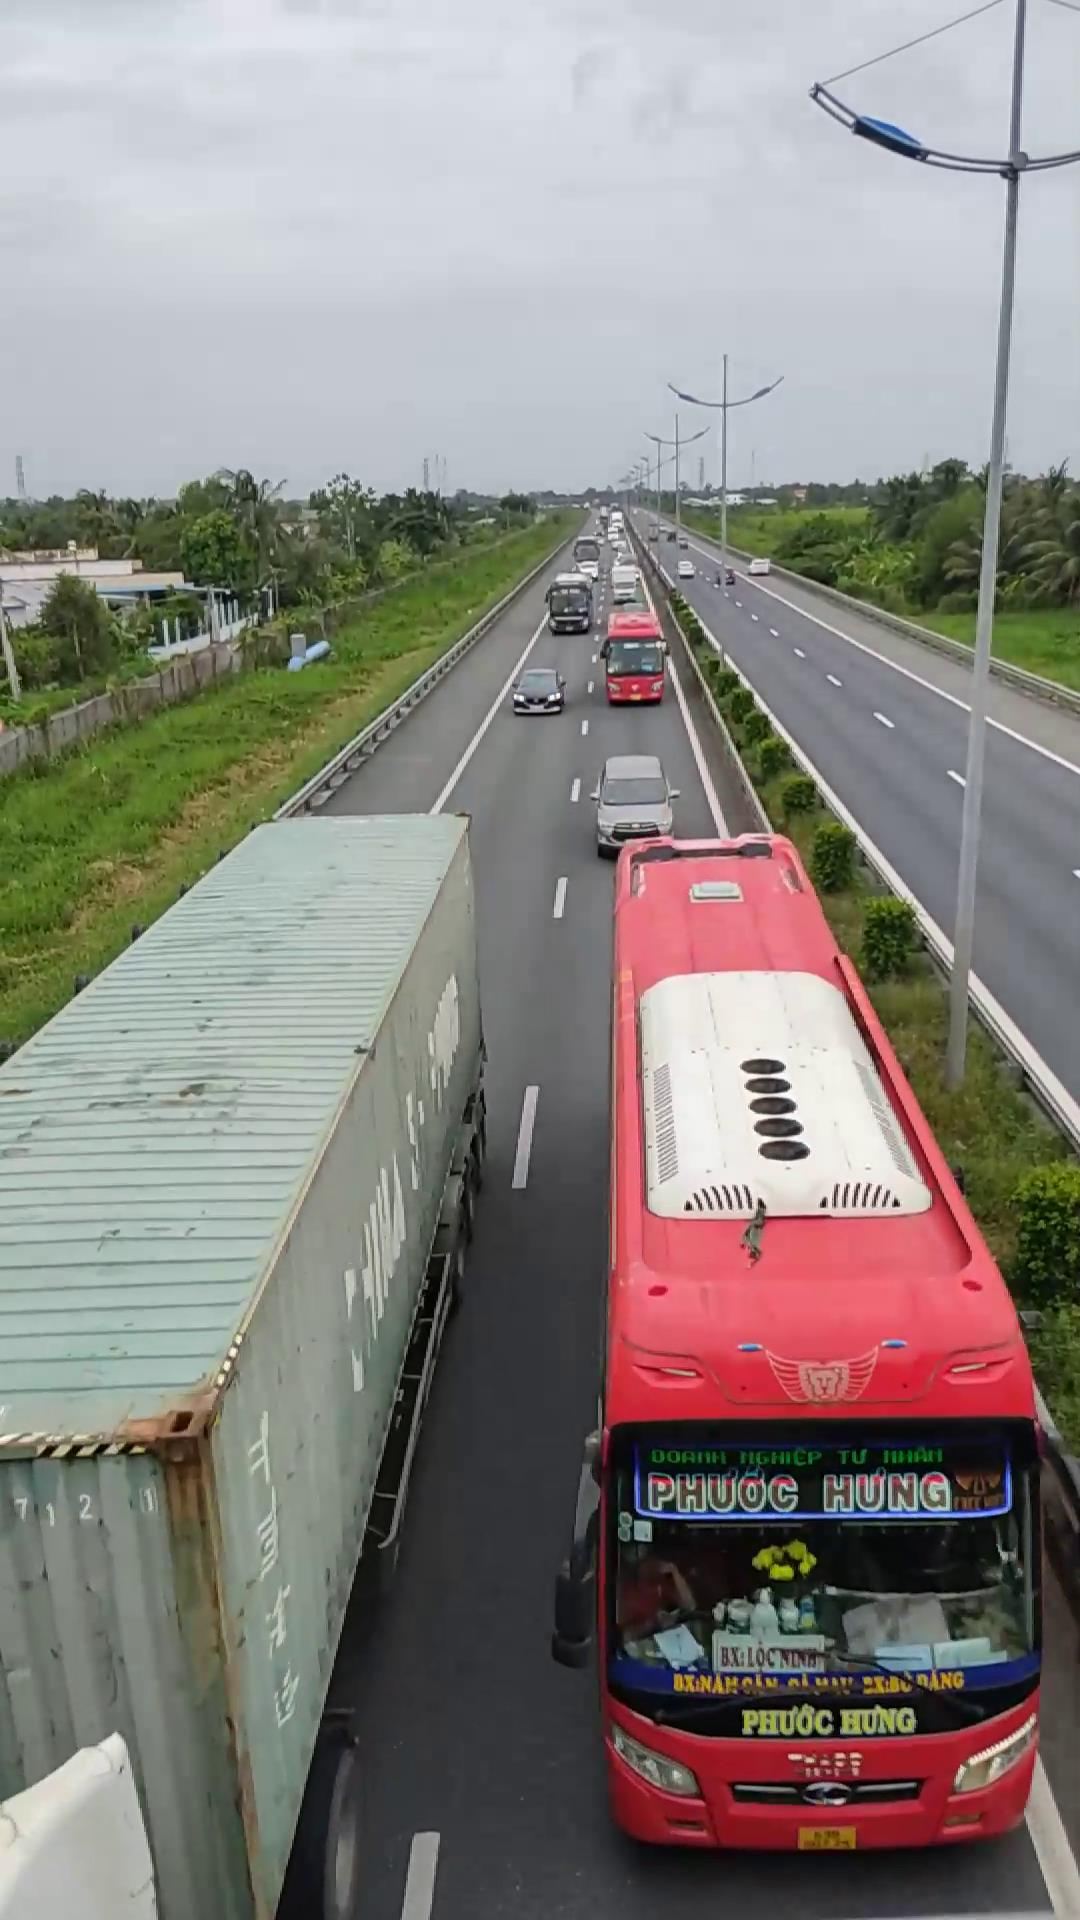bus: (595, 827, 1052, 1893)
car: (587, 754, 678, 856)
container: (0, 804, 490, 1909)
